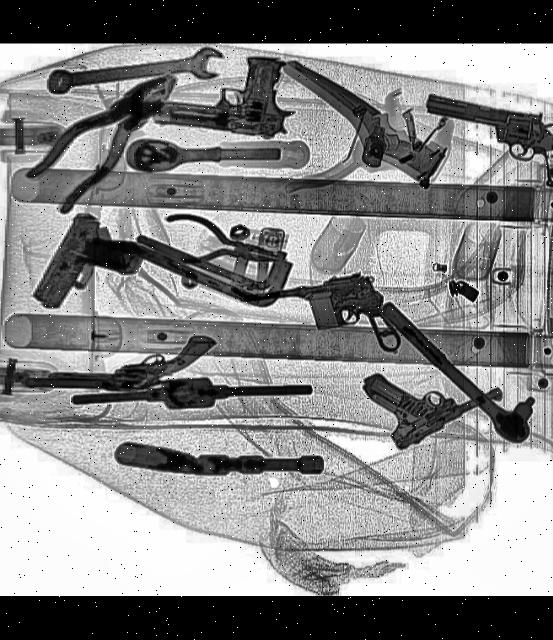Gun: (356, 326, 502, 453), (238, 269, 401, 370), (28, 208, 149, 334), (22, 322, 214, 397), (150, 45, 299, 136), (415, 91, 553, 189)
Pliers: (18, 54, 193, 214), (155, 208, 292, 284)
Wrench: (44, 46, 225, 98)
